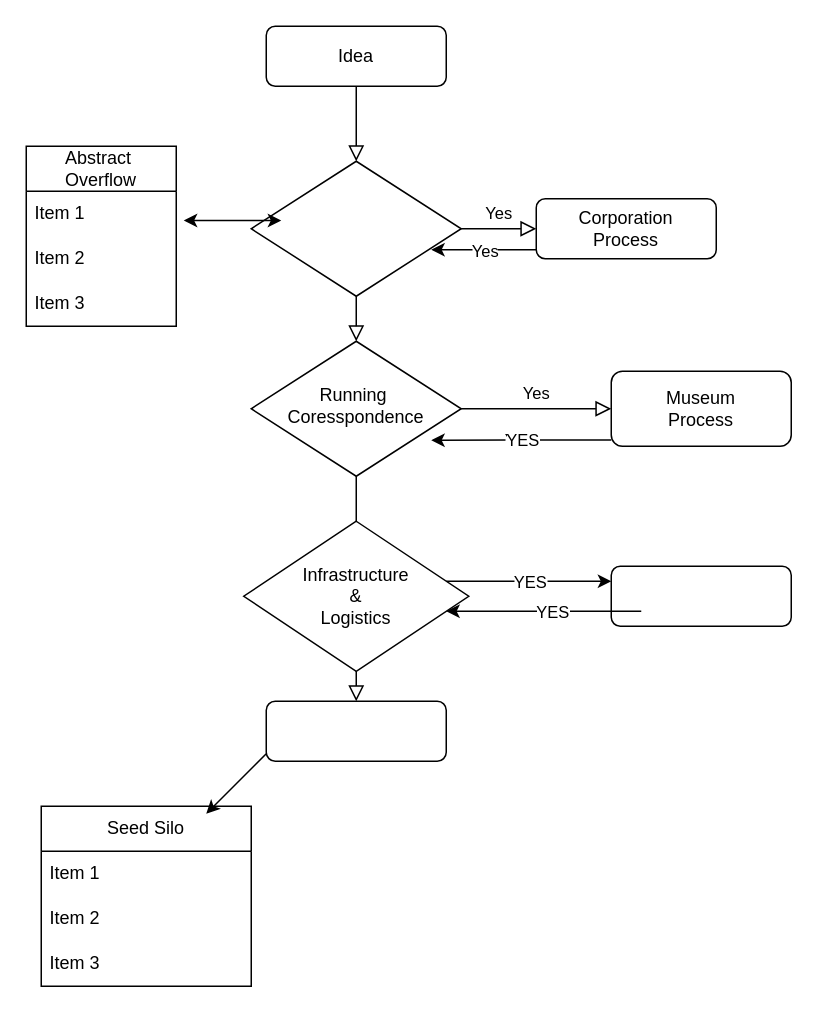
This 818x1013 diagram has some shape labels left out. Here are the shapes that lost their labels. From the top down, the centre of each, then its label:
At (x=355, y=228): "BluePrints & Catologs".
At (x=700, y=595): "Garden Process".
At (x=355, y=730): "Seed Created".
